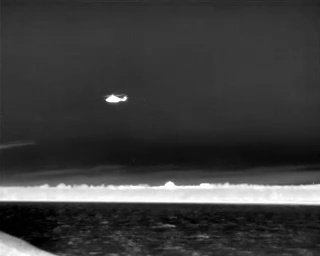HELICOPTER: (100, 88, 132, 109)
